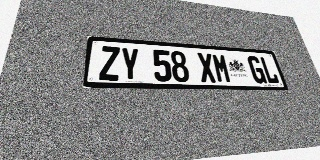5: (153, 49, 173, 82)
8: (170, 51, 190, 82)
G: (246, 56, 267, 84)
L: (259, 57, 280, 84)
M: (211, 53, 232, 83)
X: (196, 52, 217, 83)
Y: (120, 47, 140, 81)
Z: (99, 46, 120, 81)
